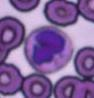N: (24, 26, 73, 74)
